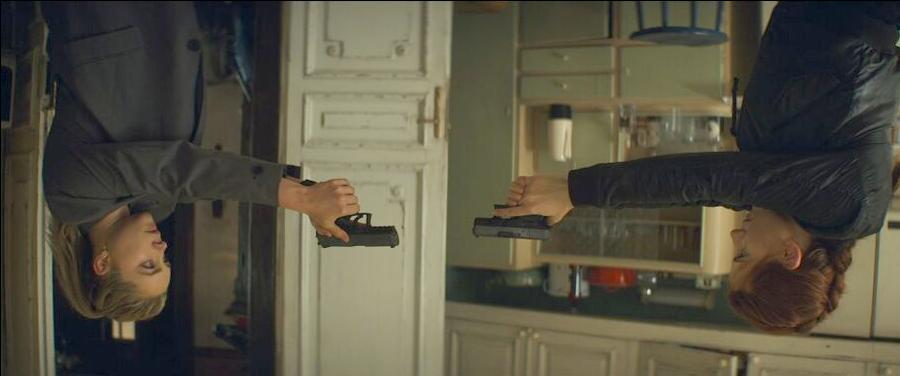gun: (464, 180, 570, 244), (306, 193, 404, 254)
